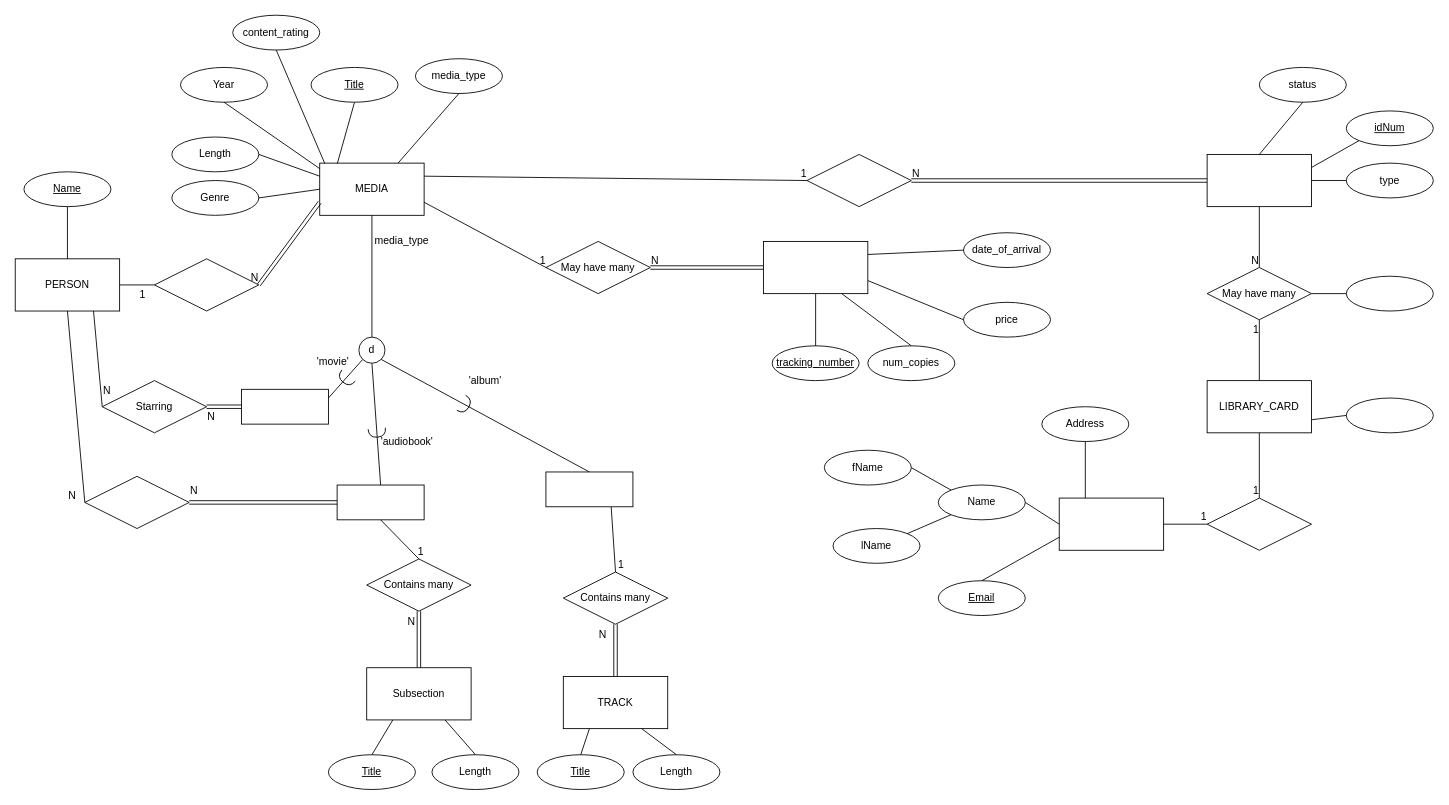
Some shapes in this 1449 by 805 pixel diagram are drawn without their labels. Each missing label, with the centre of its shape:
"ALBUM" goes at (589,489).
"AUDIOBOOK" goes at (380,502).
"COPY" goes at (1259,180).
"Created by" goes at (206,284).
"due_date" goes at (1389,293).
"has many" goes at (858,180).
"idCard" goes at (1389,415).
"MOVIE" goes at (284,406).
"Narrated By" goes at (136,502).
"ORDER" goes at (815,267).
"Owns" goes at (1259,523).
"PATRON" goes at (1111,523).
